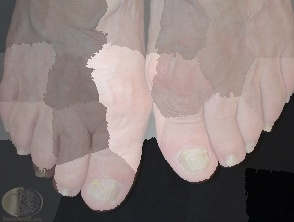Nail_psoriasis: (172, 134, 218, 181), (86, 174, 122, 207), (217, 147, 244, 173), (30, 160, 54, 184), (52, 183, 72, 198), (244, 137, 260, 155), (264, 118, 276, 134), (2, 121, 12, 134), (15, 148, 28, 157), (285, 92, 291, 106)
